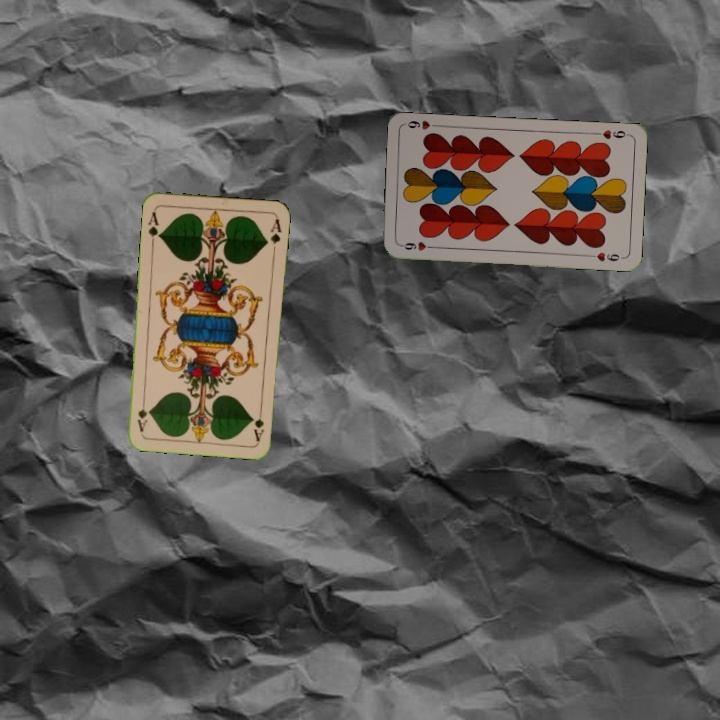GA: (144, 206, 163, 247), (250, 403, 266, 444)
H9: (591, 126, 631, 142), (397, 238, 437, 253)
